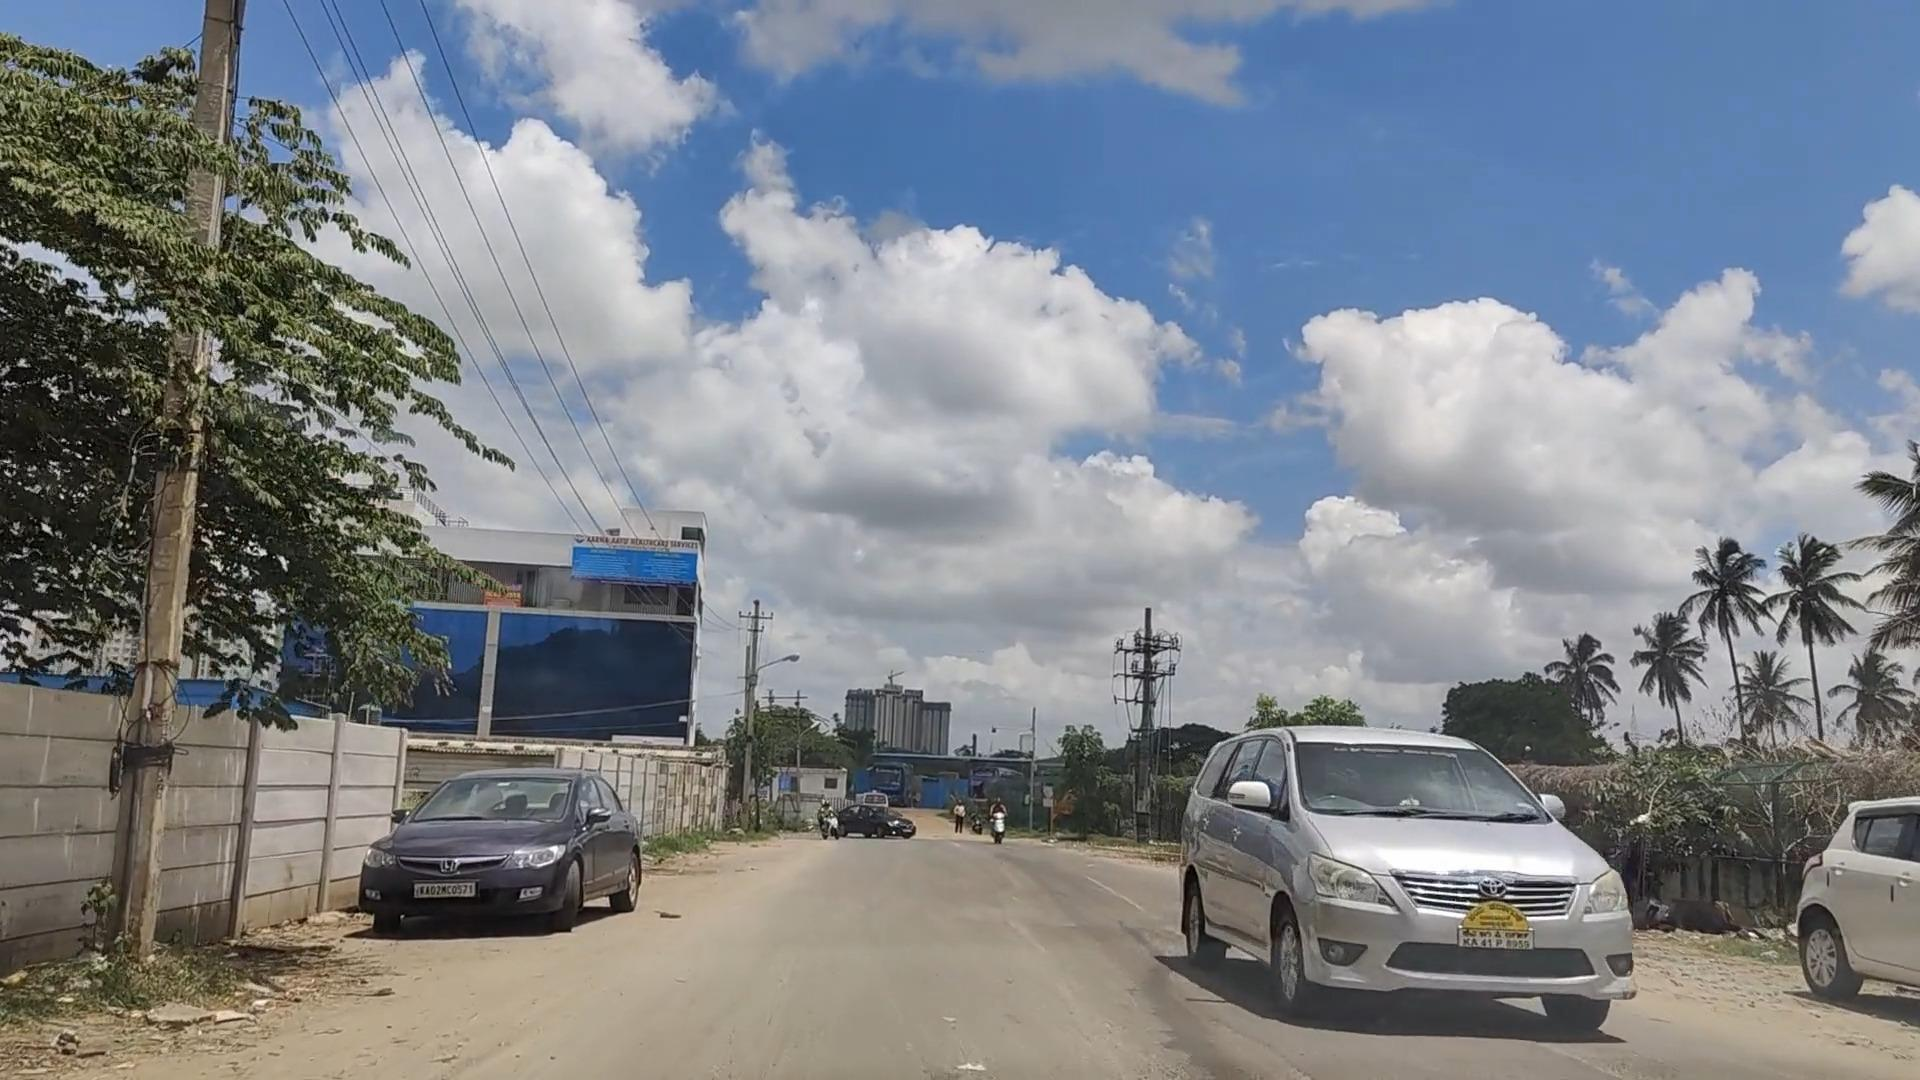LMV: (1146, 670, 1650, 1060), (335, 741, 667, 932)
UnsurfacedRoad: (86, 940, 551, 1080)
